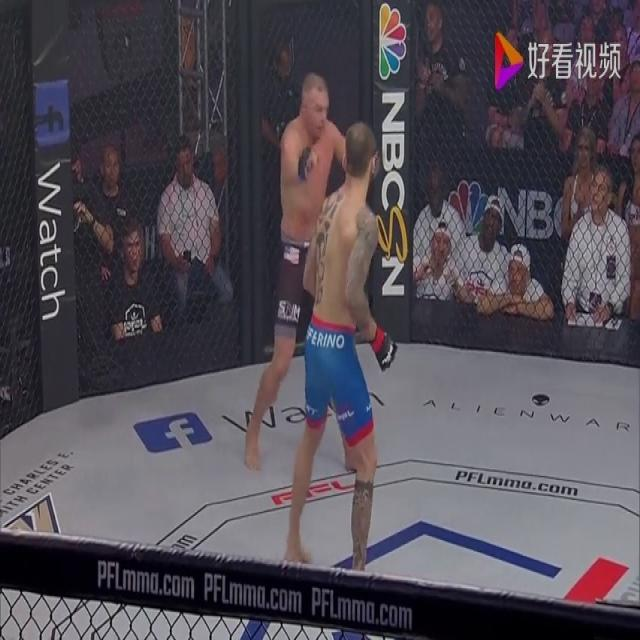fight: (245, 68, 400, 576)
